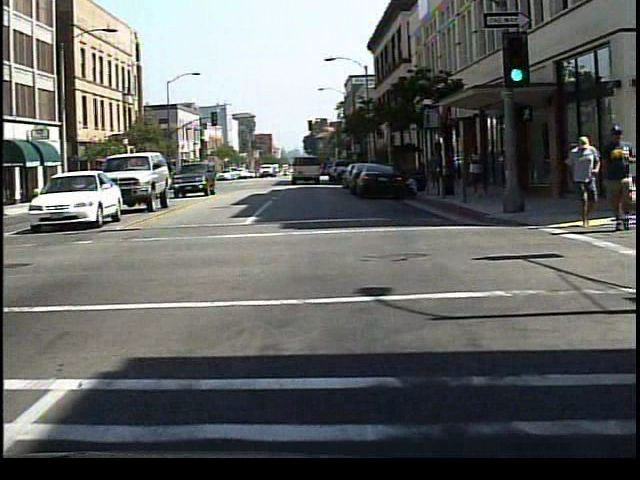person: (562, 132, 606, 232), (465, 142, 495, 204)
